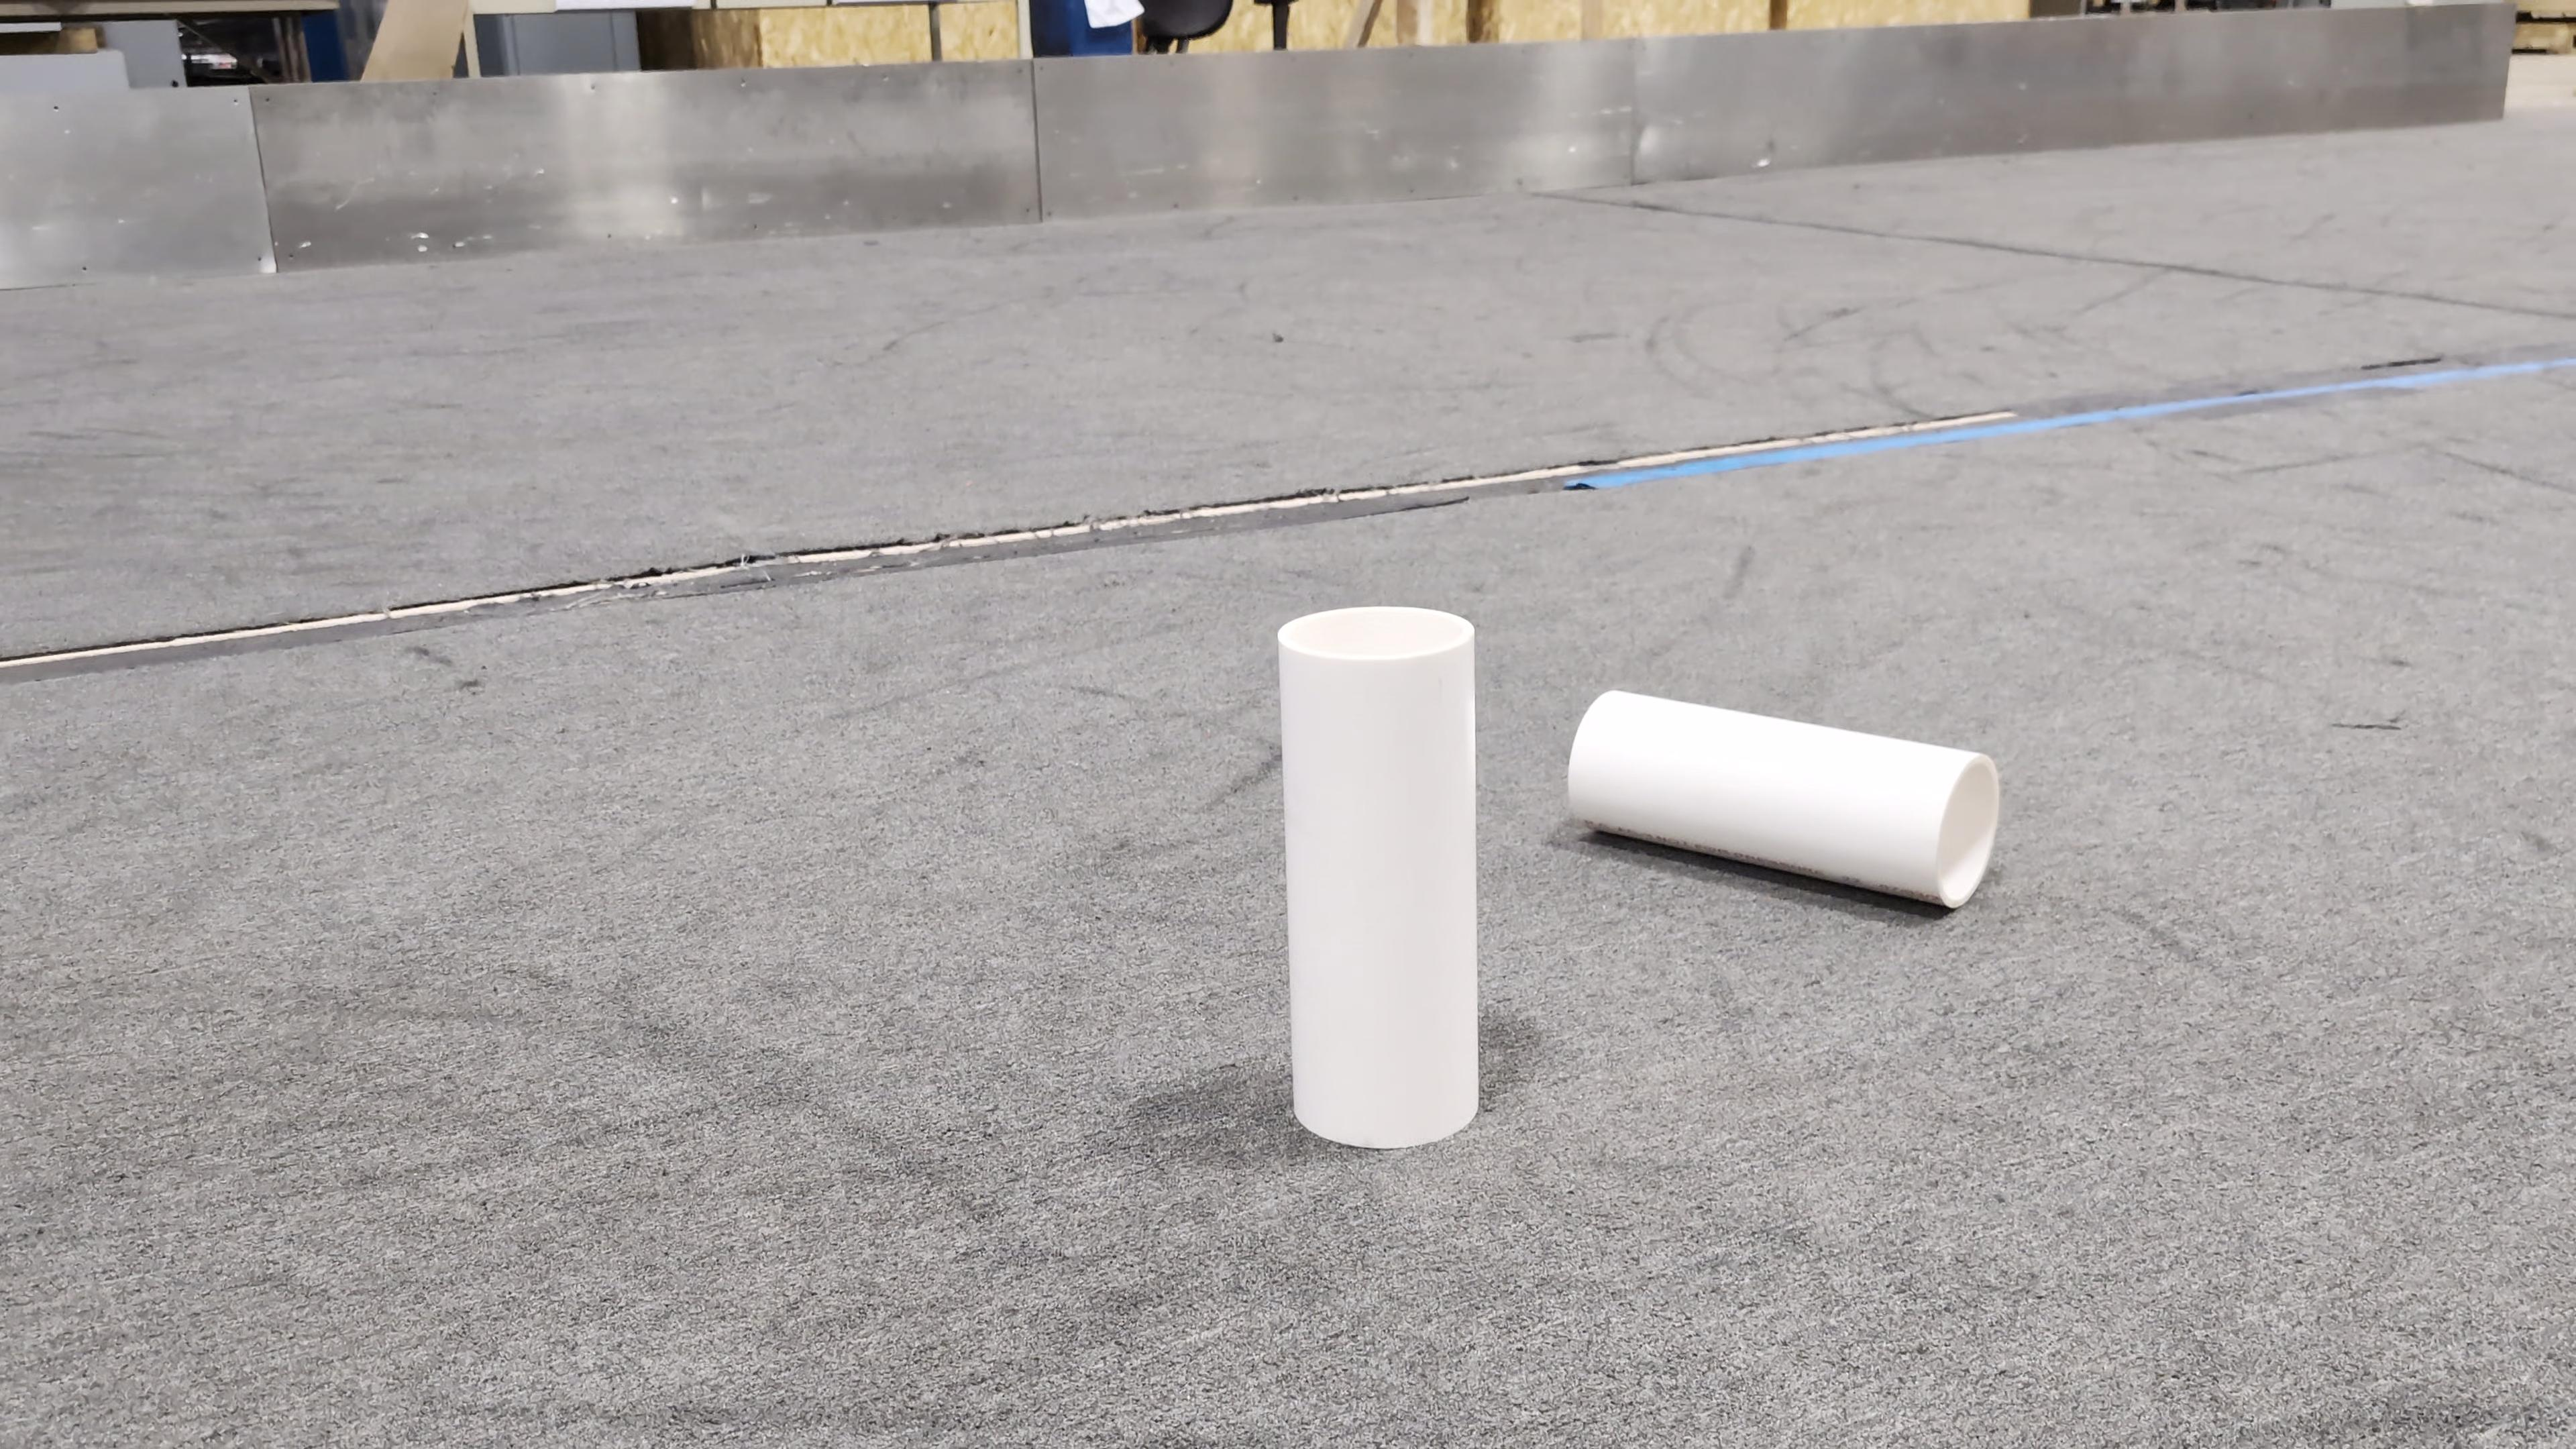coral: (1270, 602, 1486, 1145), (1566, 685, 2003, 909)
